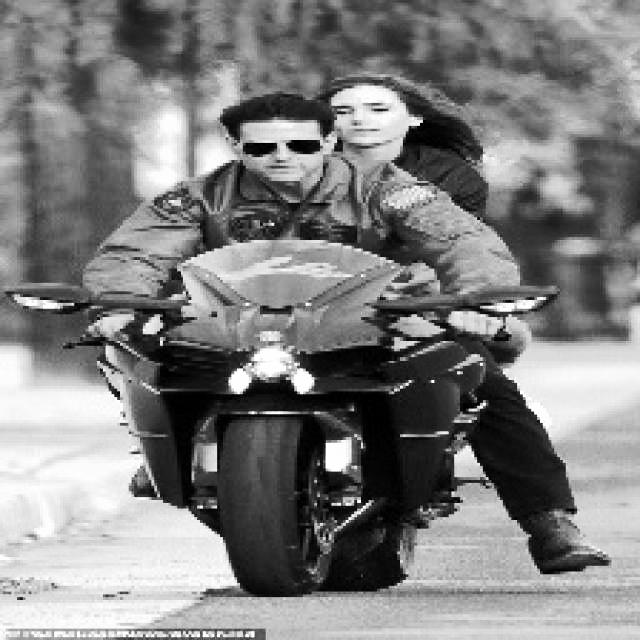Bike: (79, 262, 503, 588)
